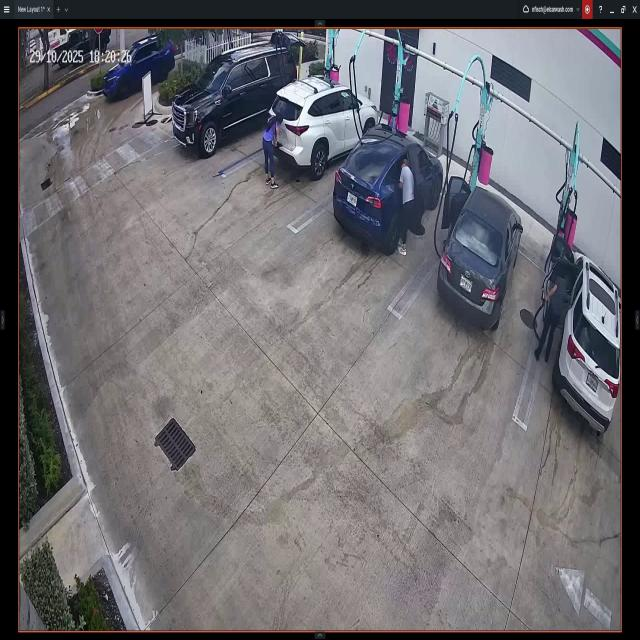Car: (334, 119, 444, 249), (172, 43, 298, 155), (551, 236, 621, 434), (439, 180, 522, 328), (270, 76, 380, 174), (102, 38, 177, 98)
